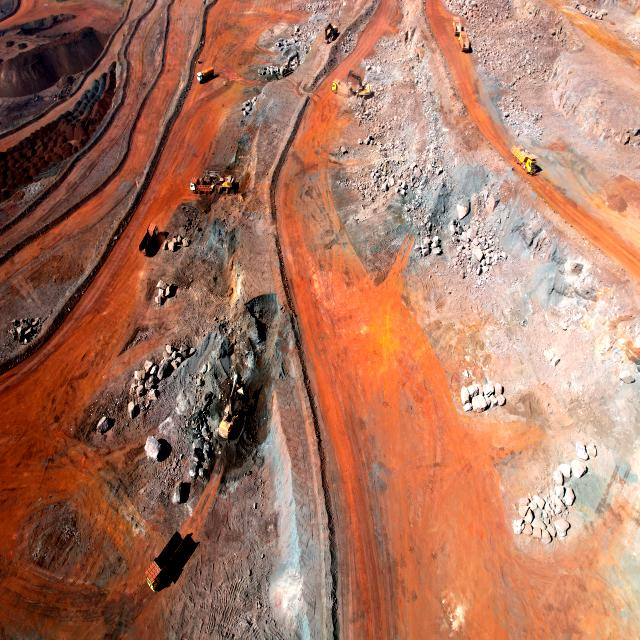Dumper truck: (146, 535, 184, 592), (514, 146, 540, 174), (143, 224, 157, 253), (191, 181, 215, 195), (332, 80, 351, 96), (453, 16, 462, 35), (460, 32, 469, 51)
Excavator: (216, 375, 246, 440), (348, 70, 372, 99), (280, 52, 302, 77), (324, 24, 338, 44), (220, 177, 235, 191), (206, 171, 222, 178)
person: (223, 81, 226, 86), (238, 60, 240, 65)
